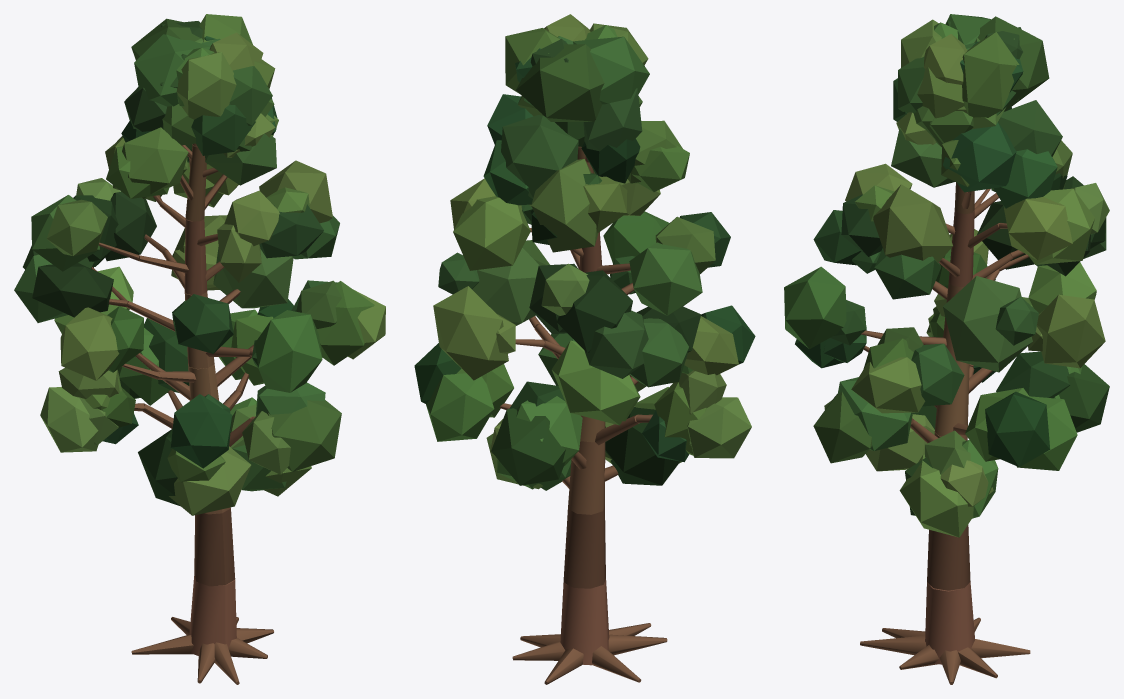
Rendered from tree_normal_small_redwood_a.glb.
3 views of the same model, side by side, from view 1: azimuth 30°, elevation 25°; view 2: azimuth 150°, elevation 25°; view 3: azimuth 270°, elevation 25° (orthographic). The views are drawn at different scales.
Parts seen in each view (by area): view 1: leaves, wood; view 2: leaves, wood; view 3: leaves, wood.
Part boxes in pixels (x1,y1,x2,y2): leaves: (14,14,385,515); wood: (91,143,273,684); leaves: (414,14,755,490); wood: (500,146,667,684); leaves: (784,14,1109,537); wood: (860,182,1030,684).
Bounding box in the file's own units: 3.41 × 6.7 × 3.11.
